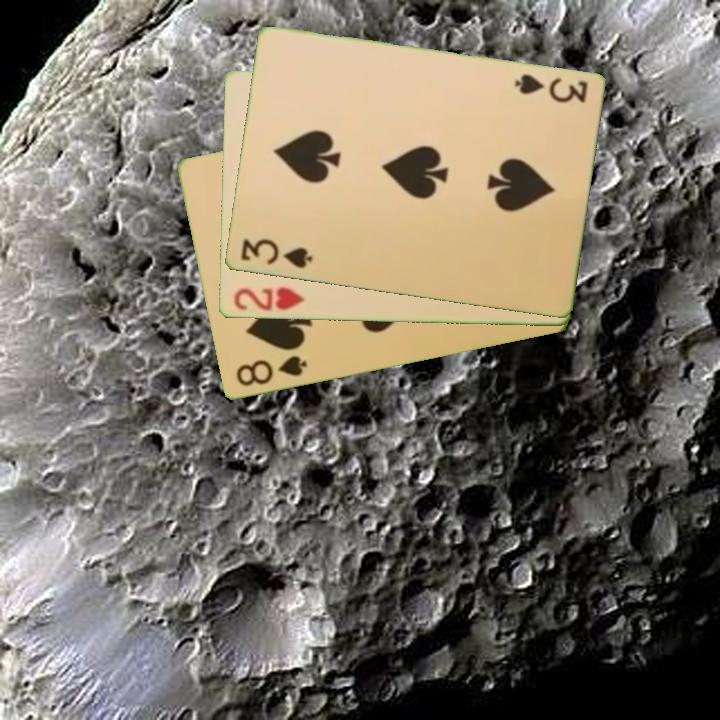2h: (230, 284, 307, 314)
3s: (236, 235, 315, 272), (510, 71, 590, 107)
8s: (232, 352, 310, 390)
